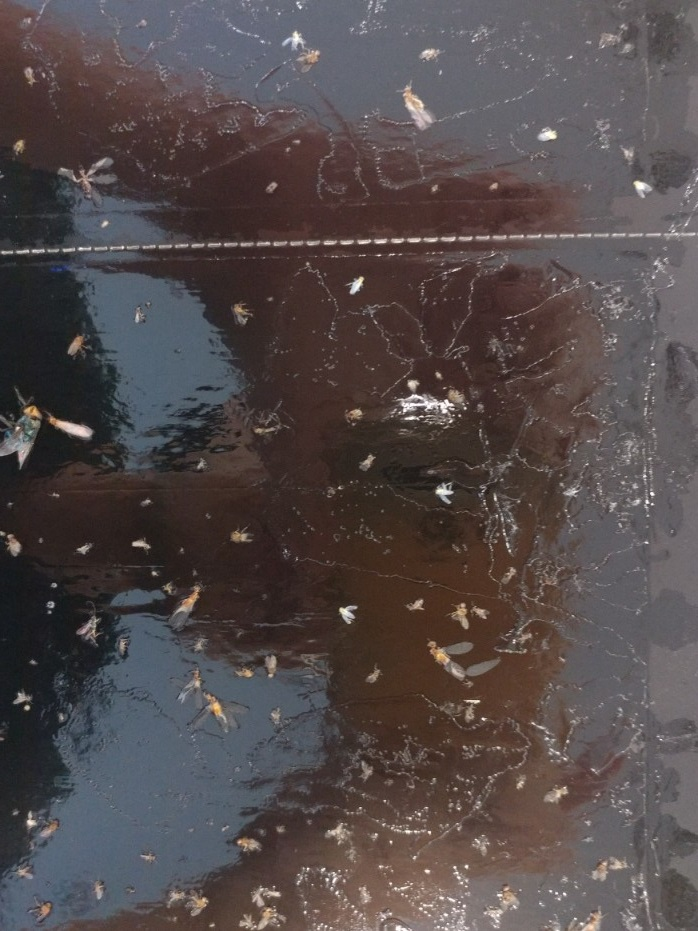house fly: (1, 385, 75, 475)
